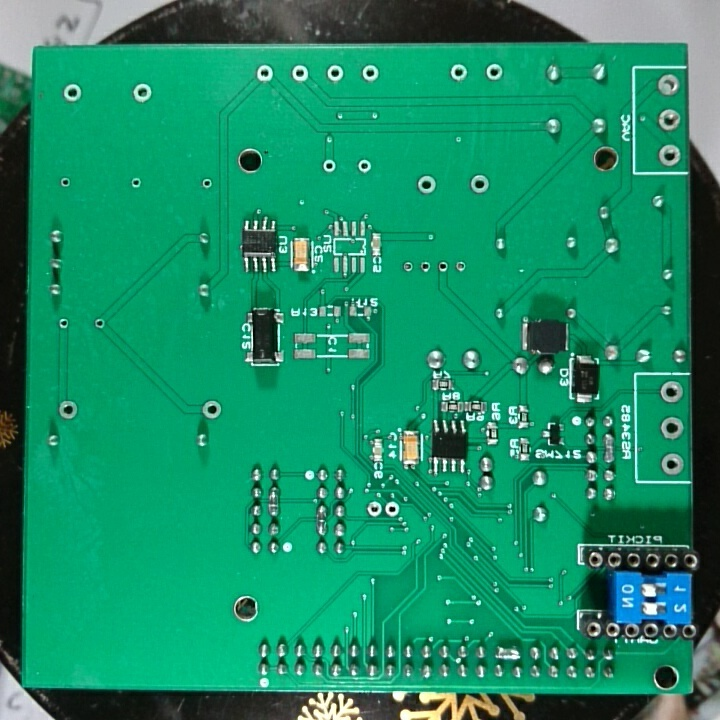F: (657, 378, 686, 407), (658, 449, 686, 477), (659, 413, 685, 442), (657, 106, 682, 133), (131, 81, 156, 108), (657, 141, 681, 169), (199, 397, 223, 423), (56, 398, 82, 422), (60, 81, 86, 105), (656, 74, 681, 98), (414, 173, 439, 197), (468, 172, 491, 197), (253, 63, 277, 86), (323, 61, 345, 85), (288, 62, 311, 84), (482, 61, 505, 83), (359, 62, 383, 83), (363, 497, 384, 520), (448, 63, 471, 84), (354, 157, 374, 177), (55, 313, 74, 333), (384, 498, 400, 520), (90, 315, 108, 334), (54, 174, 75, 190), (320, 157, 337, 176), (128, 175, 144, 193), (453, 258, 469, 275), (417, 259, 434, 275), (199, 175, 214, 191), (435, 259, 451, 274), (400, 258, 414, 275)
P: (491, 642, 525, 663), (600, 429, 619, 466), (265, 483, 283, 518), (314, 502, 330, 536)
